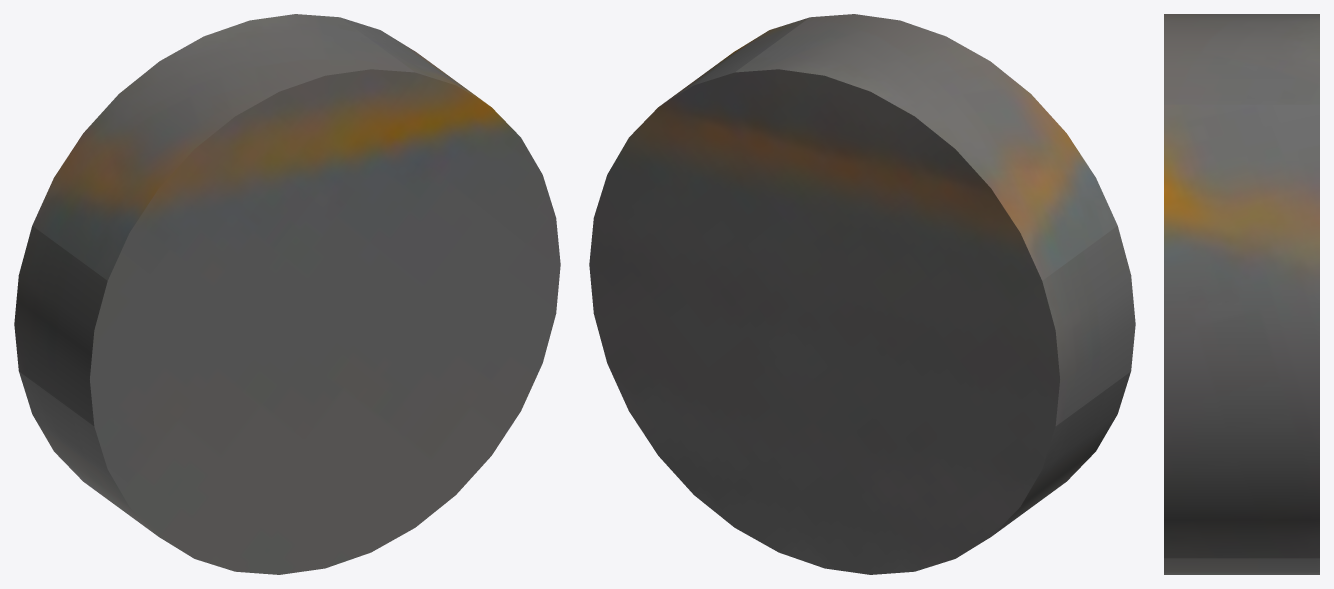
The model's file is action_button_0_1__button_cap.glb.
3 renders of one model, left to right at view 1: azimuth 30°, elevation 25°; view 2: azimuth 150°, elevation 25°; view 3: azimuth 270°, elevation 25°, orthographic. The views are drawn at different scales.
Visible parts, largest first — view 1: geometry_0; view 2: geometry_0; view 3: geometry_0.
Part boxes in pixels (<box>): geometry_0: <box>14,14,560,574</box>; geometry_0: <box>589,14,1135,574</box>; geometry_0: <box>1164,14,1319,574</box>.
Bounding box in the file's own units: 0.036 × 0.036 × 0.01.
Materials: 1 (1 with a texture image).
